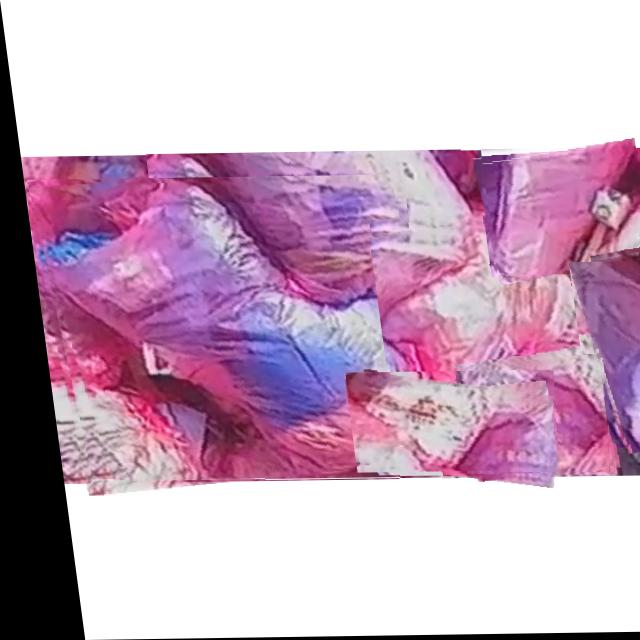other_trashbag: (37, 178, 419, 481), (182, 151, 469, 300), (371, 223, 592, 390), (335, 374, 542, 474), (487, 141, 630, 276), (445, 362, 595, 475), (561, 265, 640, 448)
